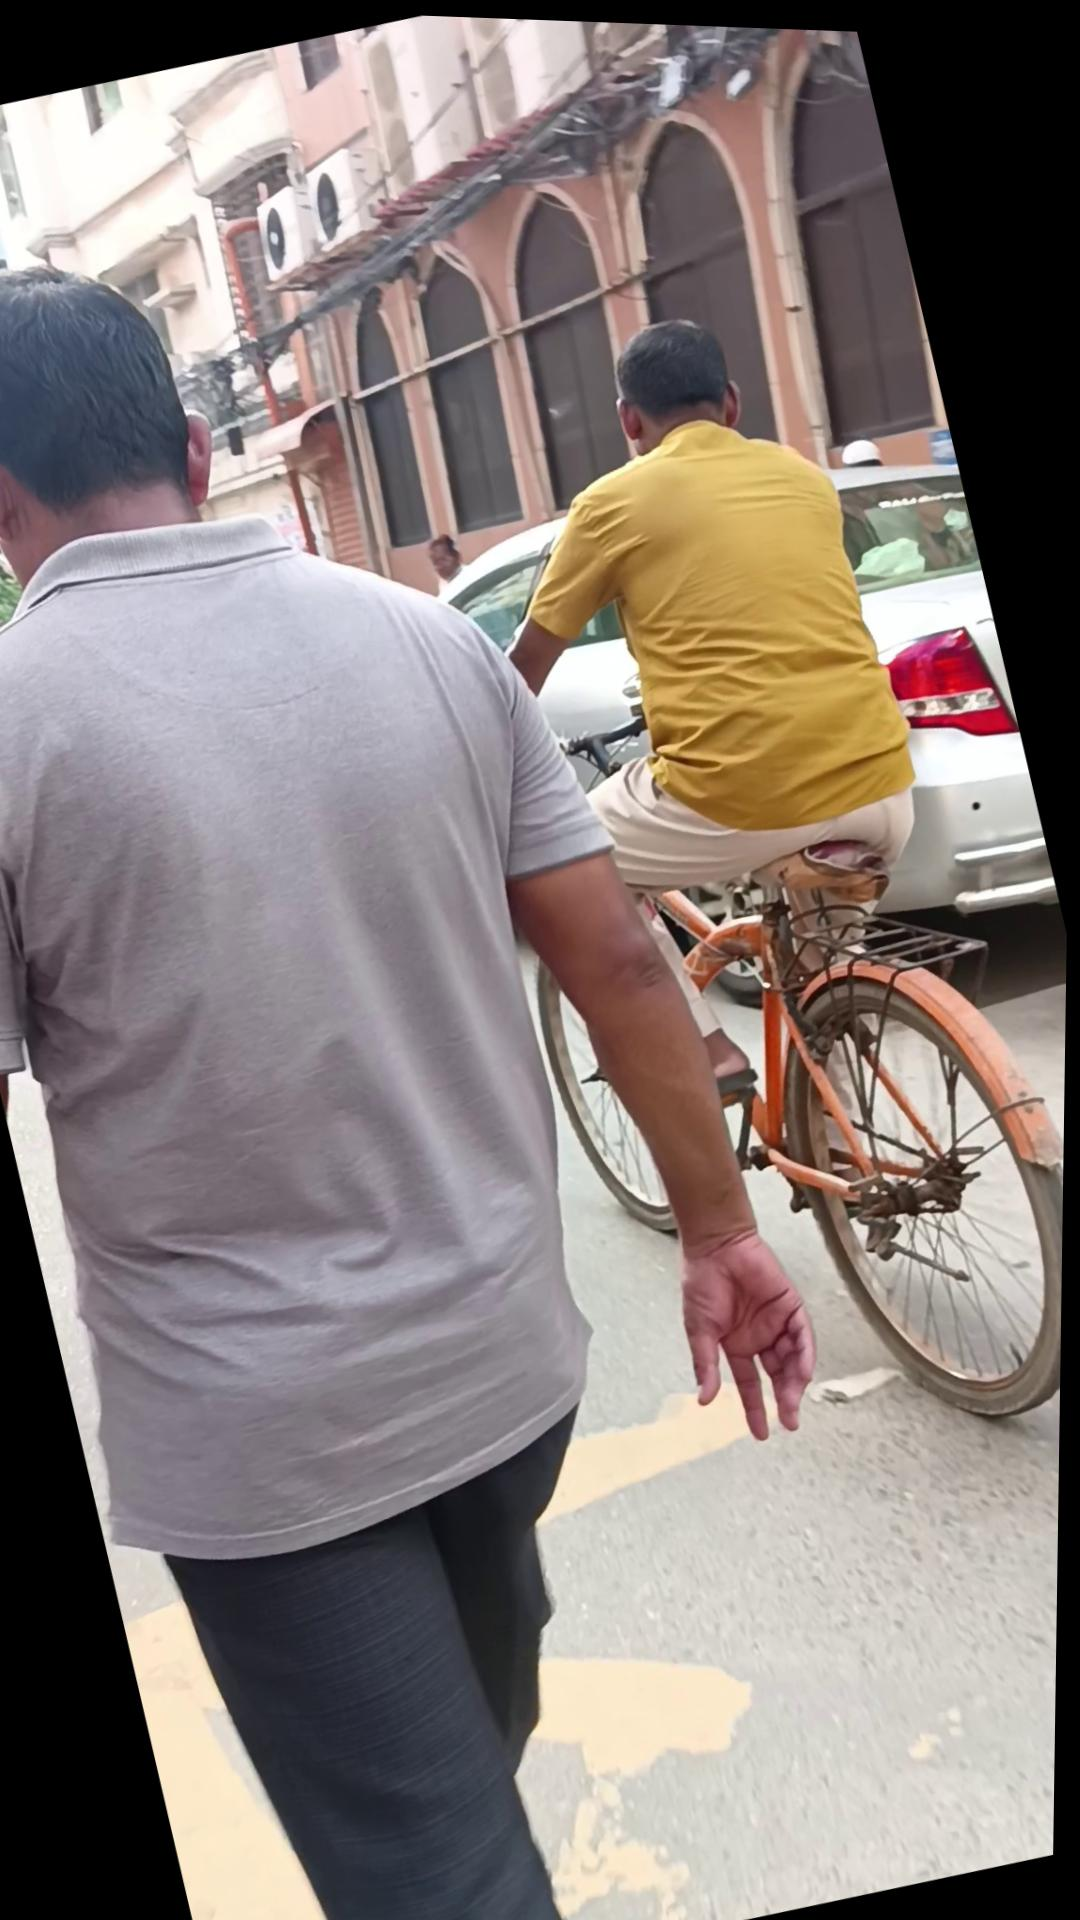Light-pole: (456, 593, 1073, 1501)
Muddy road: (0, 133, 968, 1920), (423, 270, 994, 1129)
